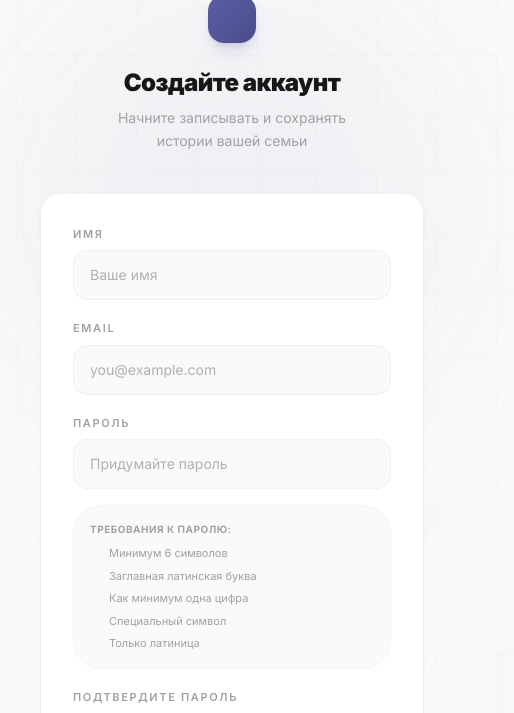
Test: RegisterPage › shows error for short name
Type "А" into the field with placeholder "Ваше имя". click: (232, 275)
box: [73,250,391,300]
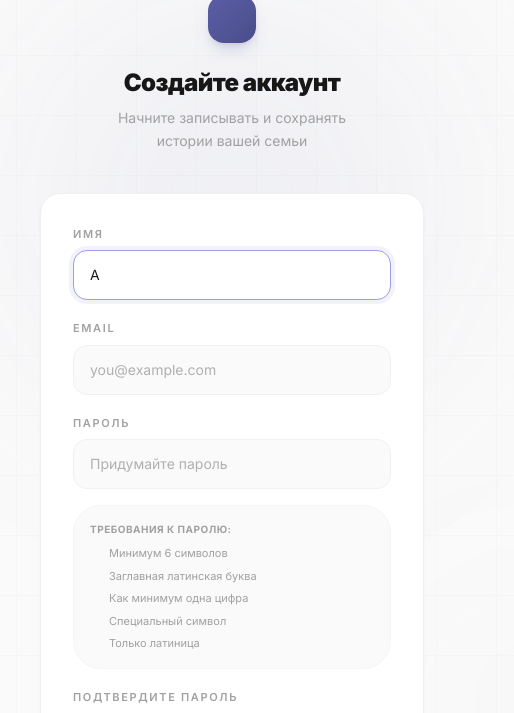
Type "test@example.com" into the field with placeholder "you@example.com". click: (232, 370)
box: [73,344,391,394]
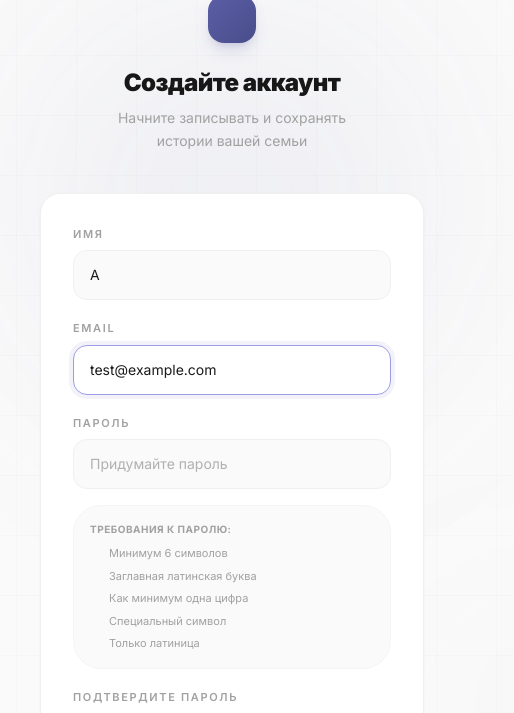
Type "password123" into the password field with placeholder "Придумайте пароль". click: (232, 464)
box: [73,439,391,489]
(page scrolled)
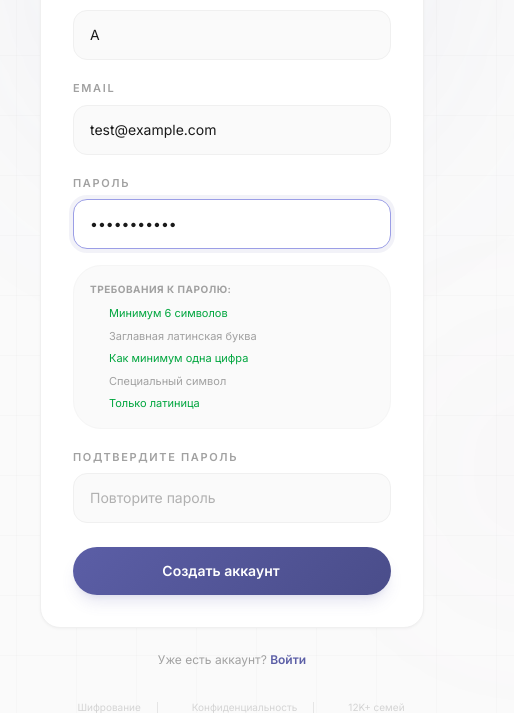
Type "password123" into the password field with placeholder "Повторите пароль". click: (232, 498)
box: [73,473,391,523]
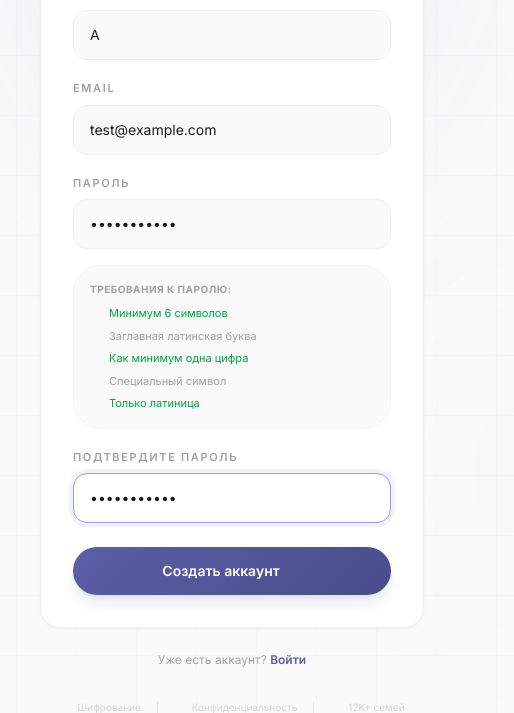
Click the button "Создать аккаунт". click: (232, 571)
box: [73,547,391,595]
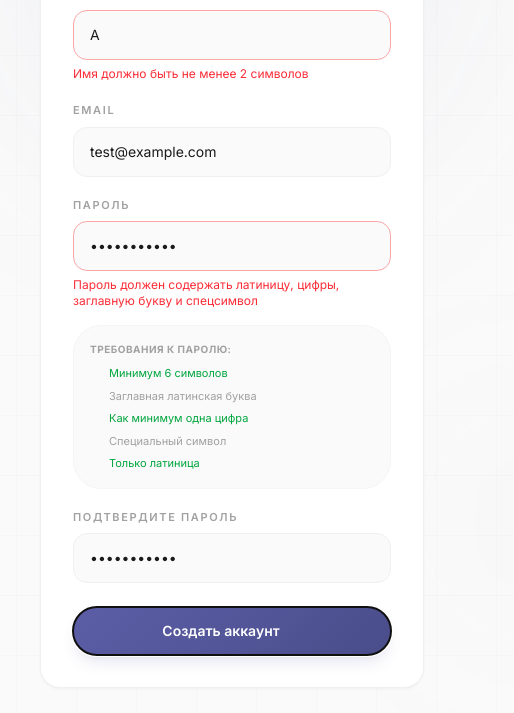
Expected: the text "Имя должно быть не менее 2 символов" is shown, [73,66,309,81]
